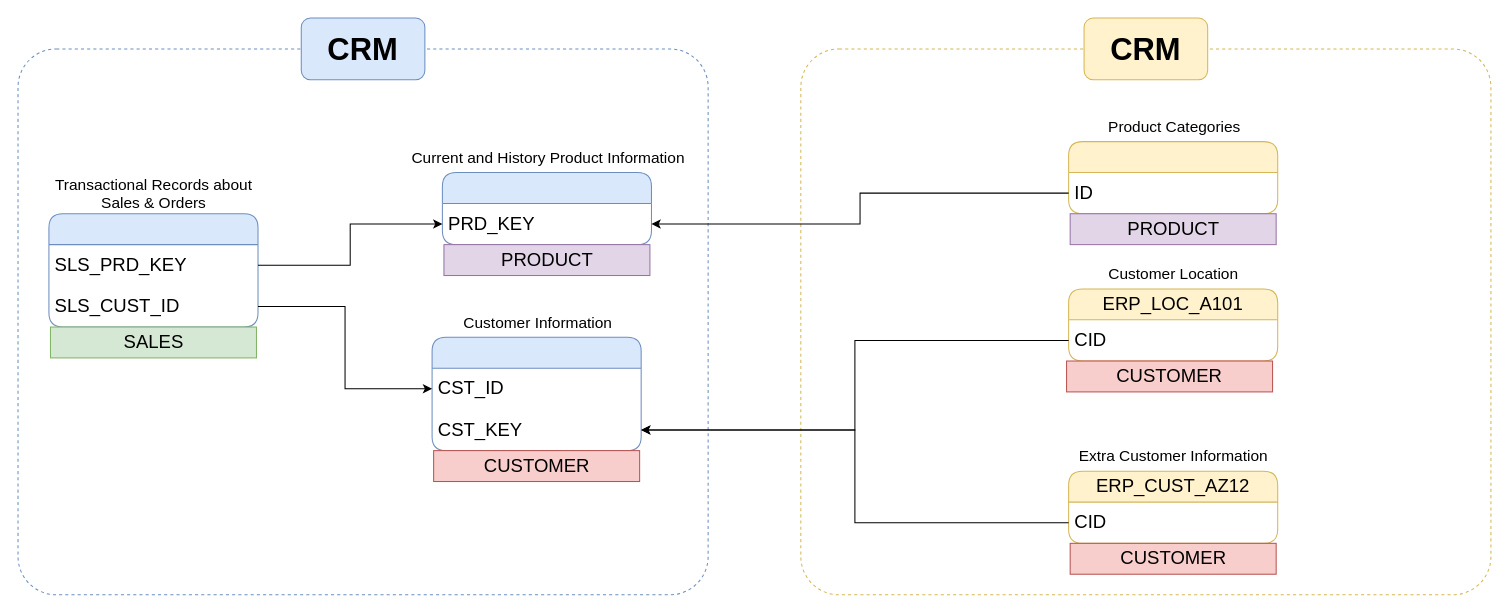
This 1509x613 diagram has some shape labels left out. The shapes that lost their labels are listed below. From the top down, each one's box as (x1, y1, x2, y2) in pixels, then its label:
(1068, 141, 1278, 214): ERP_PX_CAT_G1V2
(441, 171, 651, 245): CRM_PRD_INFO
(48, 213, 258, 327): CRM_SALES_DETAILS
(431, 336, 641, 451): CRM_CUST_INFO
